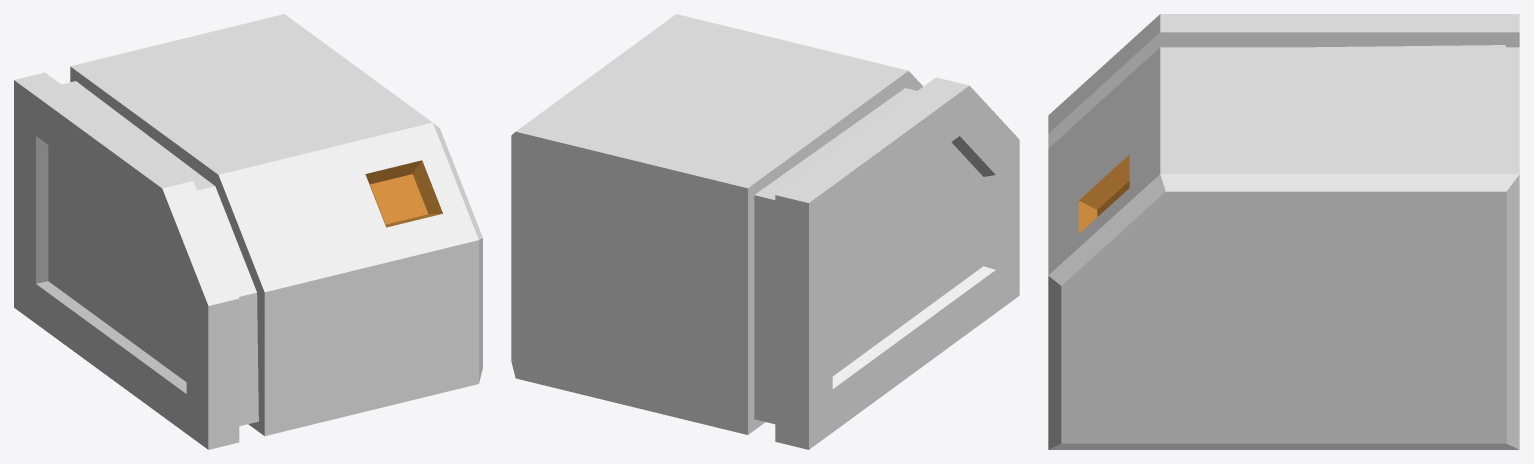
Rendered from Computer.fbx.
3 views of the same model, side by side, from view 1: azimuth 30°, elevation 25°; view 2: azimuth 150°, elevation 25°; view 3: azimuth 270°, elevation 25° (orthographic). The views are drawn at different scales.
Parts seen in each view (by area): view 1: Computer; view 2: Computer; view 3: Computer.
Part boxes in pixels (<box>): Computer: <box>14,14,482,449</box>; Computer: <box>511,14,1019,449</box>; Computer: <box>1048,14,1519,449</box>.
Size of the model in its own units: 71.39 by 55.47 by 85.9.
